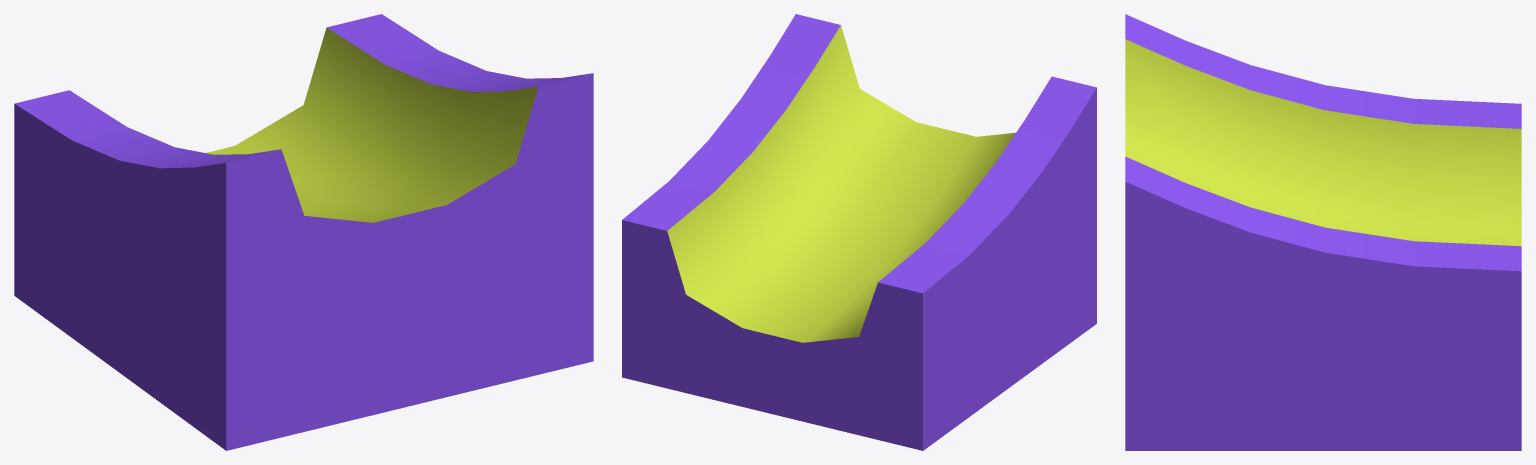
The model's file is rampStart_solid_B.fbx.
3 views of the same model, side by side, from view 1: azimuth 30°, elevation 25°; view 2: azimuth 150°, elevation 25°; view 3: azimuth 270°, elevation 25° (orthographic). The views are drawn at different scales.
Parts seen in each view (by area): view 1: rampStart_solid_B; view 2: rampStart_solid_B; view 3: rampStart_solid_B.
Part boxes in pixels (x1,y1,x2,y2): rampStart_solid_B: (14, 14, 593, 450); rampStart_solid_B: (622, 14, 1096, 450); rampStart_solid_B: (1125, 14, 1521, 450).
Bounding box in the file's own units: 10 × 7.5 × 10.
